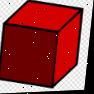cube: (0, 0, 84, 91)
